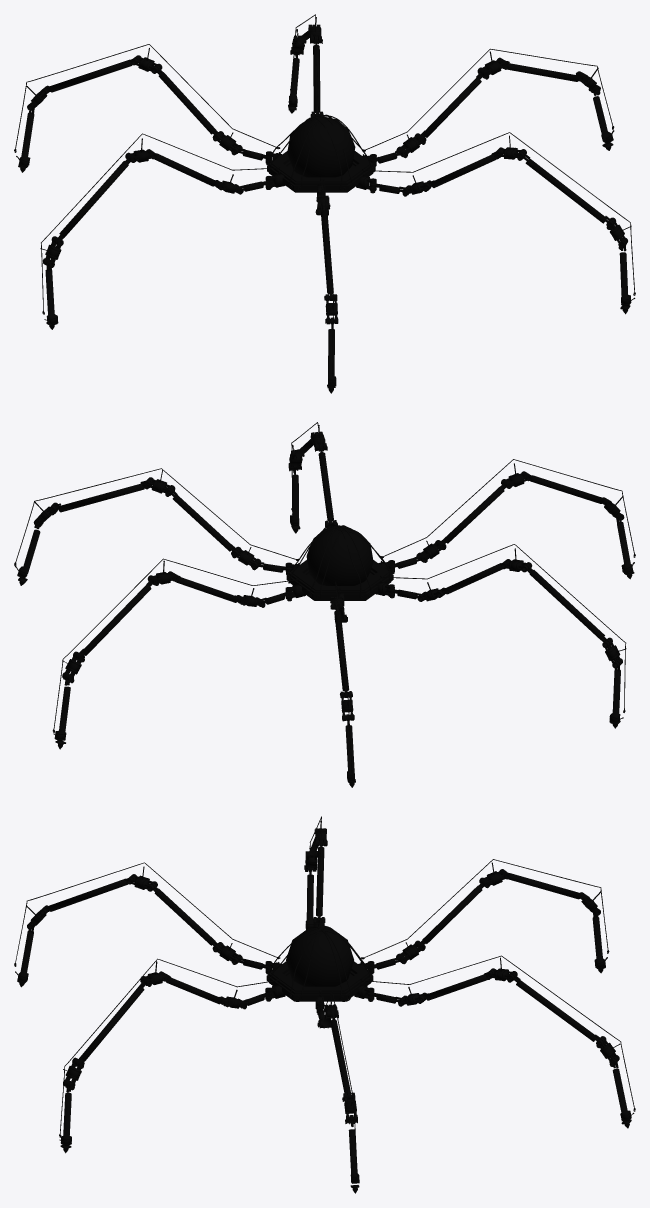
The picture shows the model from 3 angles, top to bottom: view 1: azimuth 30°, elevation 25°; view 2: azimuth 150°, elevation 25°; view 3: azimuth 270°, elevation 25°; orthographic projection.
Visible parts, largest first — view 1: legs, joint_2, wires; view 2: legs, joint_2, wires; view 3: legs, joint_2, wires.
Part boxes in pixels (x1,y1,x2,y2): legs: (16, 17, 635, 393); joint_2: (18, 24, 631, 386); wires: (14, 14, 635, 375); legs: (15, 425, 634, 787); joint_2: (17, 431, 633, 781); wires: (14, 422, 635, 773); legs: (15, 821, 634, 1193); joint_2: (17, 828, 631, 1183); wires: (14, 816, 635, 1176).
Size of the model in its own units: 20.47 by 5.68 by 18.8.
3 materials, 3 textured.
